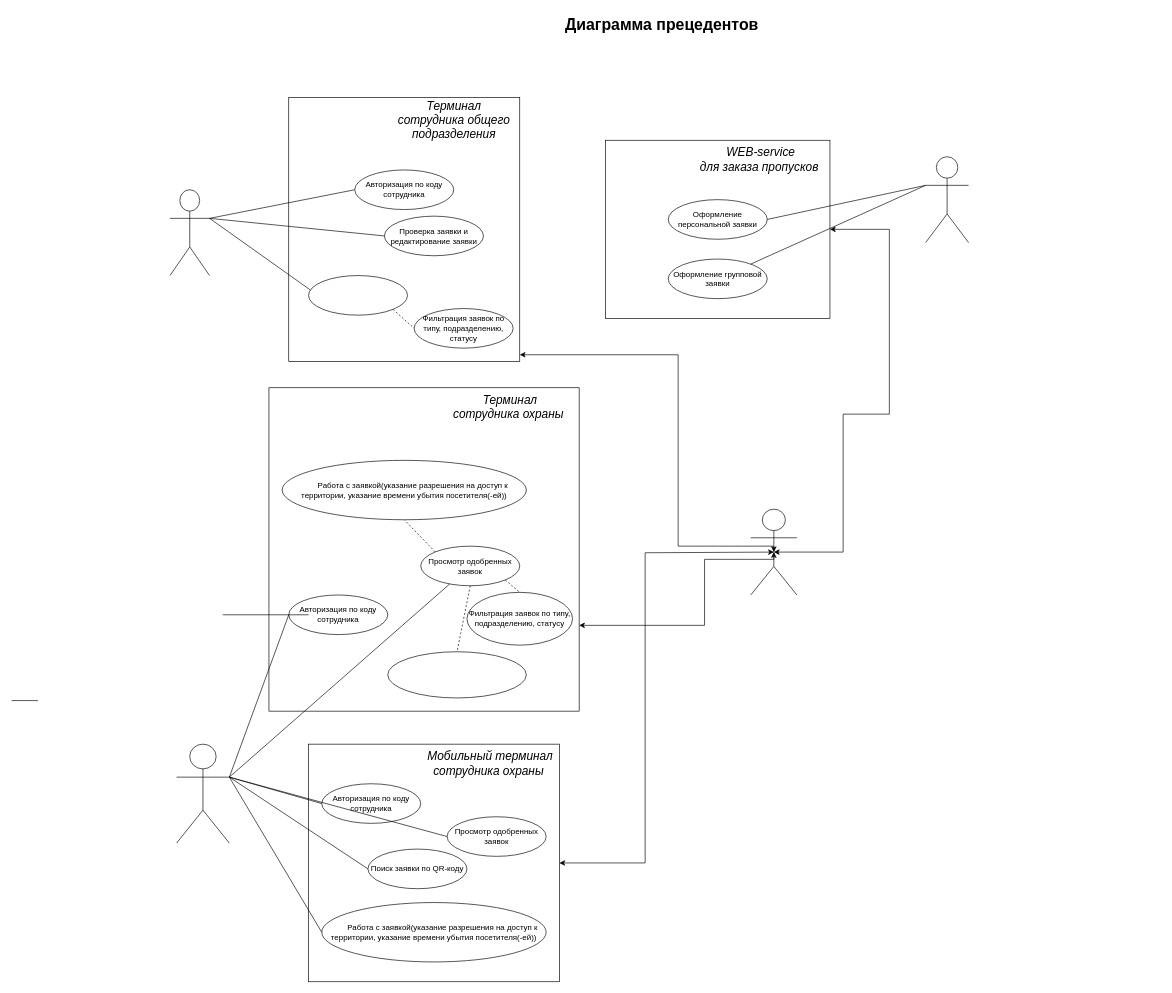
Some shapes in this 1172 by 993 pixel diagram are drawn without their labels. The centre of each missing label's shape, as x and y in pixels:
"CommonSubdivisionEmployee" belongs at (x=189, y=232).
"DB-PostgreSQl" belongs at (x=773, y=552).
"Guard" belongs at (x=202, y=793).
"Visitor(s)" belongs at (x=947, y=199).
"Поиск заявки по фамилии, имени, отчеству или номеру пасспорта" belongs at (x=456, y=674).
"Просмотрм списка заявок" belongs at (x=358, y=295).
